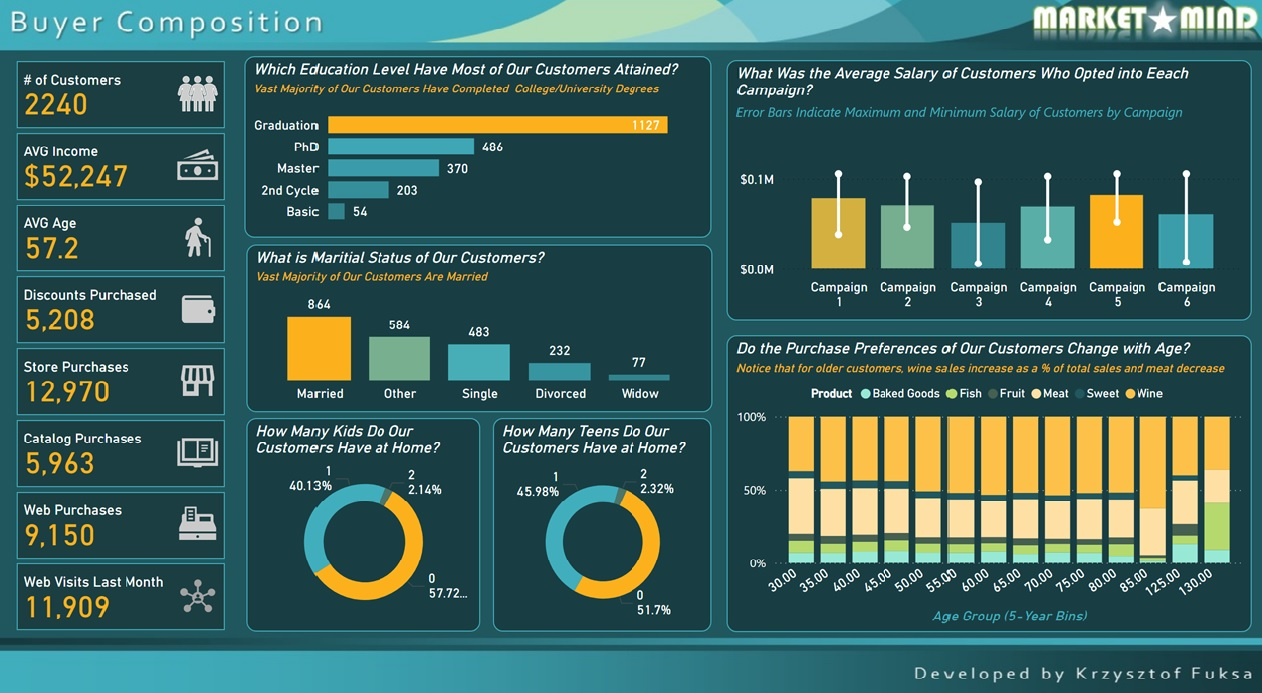

This screenshot's page, from the dashboard's own definition file:
{"tool":"powerbi","page":{"name":"Buyer Composition","canvas":[1280,720],"ordinal":1},"visuals":[{"type":"clusteredBarChart","title":"Which Education Level Have Most of Our Customers Attained? ","fields":{"Category":["marketing_data.Education"],"Y":["CountNonNull(marketing_data.ID)"]},"box":[248.1,57.5,472.5,187],"z":0},{"type":"columnChart","title":"What is Maritial Status of Our Customers?","fields":{"Y":["CountNonNull(marketing_data.ID)"],"Category":["marketing_data.Marital_Status"]},"box":[248.1,251.6,471.7,172.8],"z":1000},{"type":"cardVisual","fields":{"Data":["CountNonNull(marketing_data.ID)","Avg(marketing_data. Income )","Avg(marketing_data.Age)","Sum(marketing_data.Purchased - Deal)","Sum(marketing_data.Purchased - Store)","Sum(marketing_data.Purchased - Catalog)","Sum(marketing_data.Purchased - Web)","Sum(marketing_data.Web Visits Last Month)"]},"box":[11.6,58,221.7,604.3],"z":2000},{"type":"donutChart","title":"How Many Kids Do Our Customers Have at Home?","fields":{"Y":["CountNonNull(marketing_data.ID)"],"Category":["marketing_data.Kidhome"]},"box":[248.1,431.5,236.2,220.3],"z":2000,"group":"g2"},{"type":"group","id":"g1","title":"Group 2","box":[736.2,62.3,530.4,589.9],"z":3000},{"type":"donutChart","title":"How Many Teens Do Our Customers Have at Home?","fields":{"Y":["CountNonNull(marketing_data.ID)"],"Category":["marketing_data.Teenhome"]},"box":[497.4,431.5,221.7,220.3],"z":3000,"group":"g2"},{"type":"clusteredColumnChart","title":"What Was the Average Salary of Customers Who Opted into Eeach Campaign?","fields":{"Category":["campaign.Campaign"],"Y":["Avg(marketing_data. Income )"]},"box":[736.2,62.3,530.4,268.1],"z":4000,"group":"g1"},{"type":"group","id":"g2","title":"Group 1","box":[248.1,431.5,471,220.3],"z":4000},{"type":"hundredPercentStackedColumnChart","title":"Do the Purchase Preferences of Our Customers Change with Age?","fields":{"Y":["Sum(products.Total Sales)"],"Series":["products.Product"],"Category":["marketing_data.Age Group"]},"box":[736.2,346.4,530.4,305.8],"z":5000,"group":"g1"}]}

Visuals, with their boxes in screenshot pixels (x1, y1, x2, y2), scaled from the page's 1280x720 canvas onto the 1262x693 screenshot:
"Which Education Level Have Most of Our Customers Attained? " clusteredBarChart: 245 55 710 235
"What is Maritial Status of Our Customers?" columnChart: 245 242 710 408
cardVisual - CountNonNull(marketing_data.ID) x Avg(marketing_data. Income ): 11 56 230 637
"How Many Kids Do Our Customers Have at Home?" donutChart: 245 415 477 627
"Group 2" group: 726 60 1249 628
"How Many Teens Do Our Customers Have at Home?" donutChart: 490 415 709 627
"What Was the Average Salary of Customers Who Opted into Eeach Campaign?" clusteredColumnChart: 726 60 1249 318
"Group 1" group: 245 415 709 627
"Do the Purchase Preferences of Our Customers Change with Age?" hundredPercentStackedColumnChart: 726 333 1249 628
